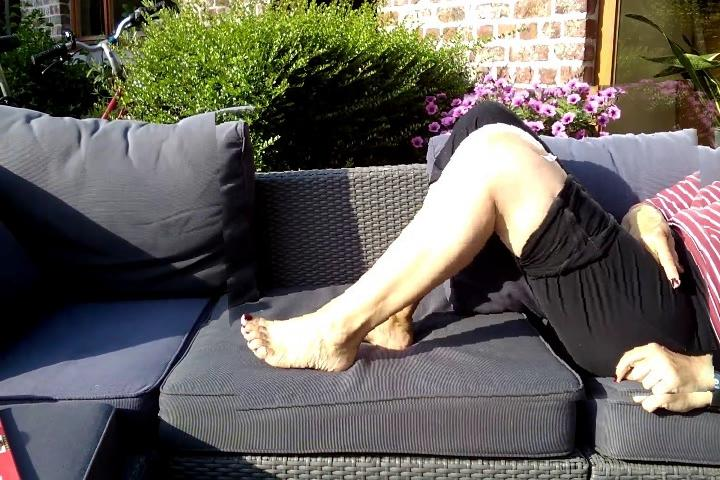lower_body: (221, 89, 711, 419)
